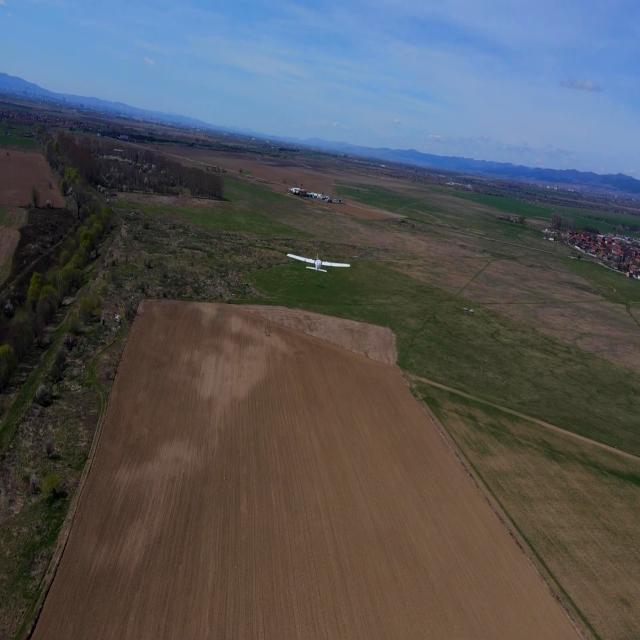iha: (315, 245, 320, 271)
